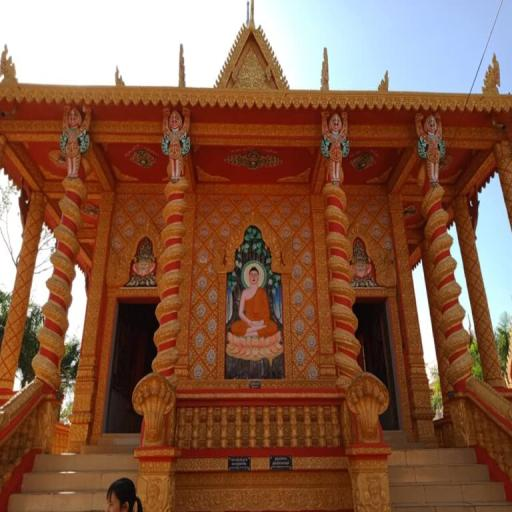ran: (341, 360, 394, 444), (127, 360, 175, 447), (478, 47, 504, 97), (0, 38, 25, 84), (315, 41, 333, 92), (177, 40, 189, 87), (374, 67, 392, 96), (110, 61, 128, 89)
than: (316, 103, 360, 188), (59, 96, 98, 187), (154, 102, 194, 184), (413, 108, 453, 188)
